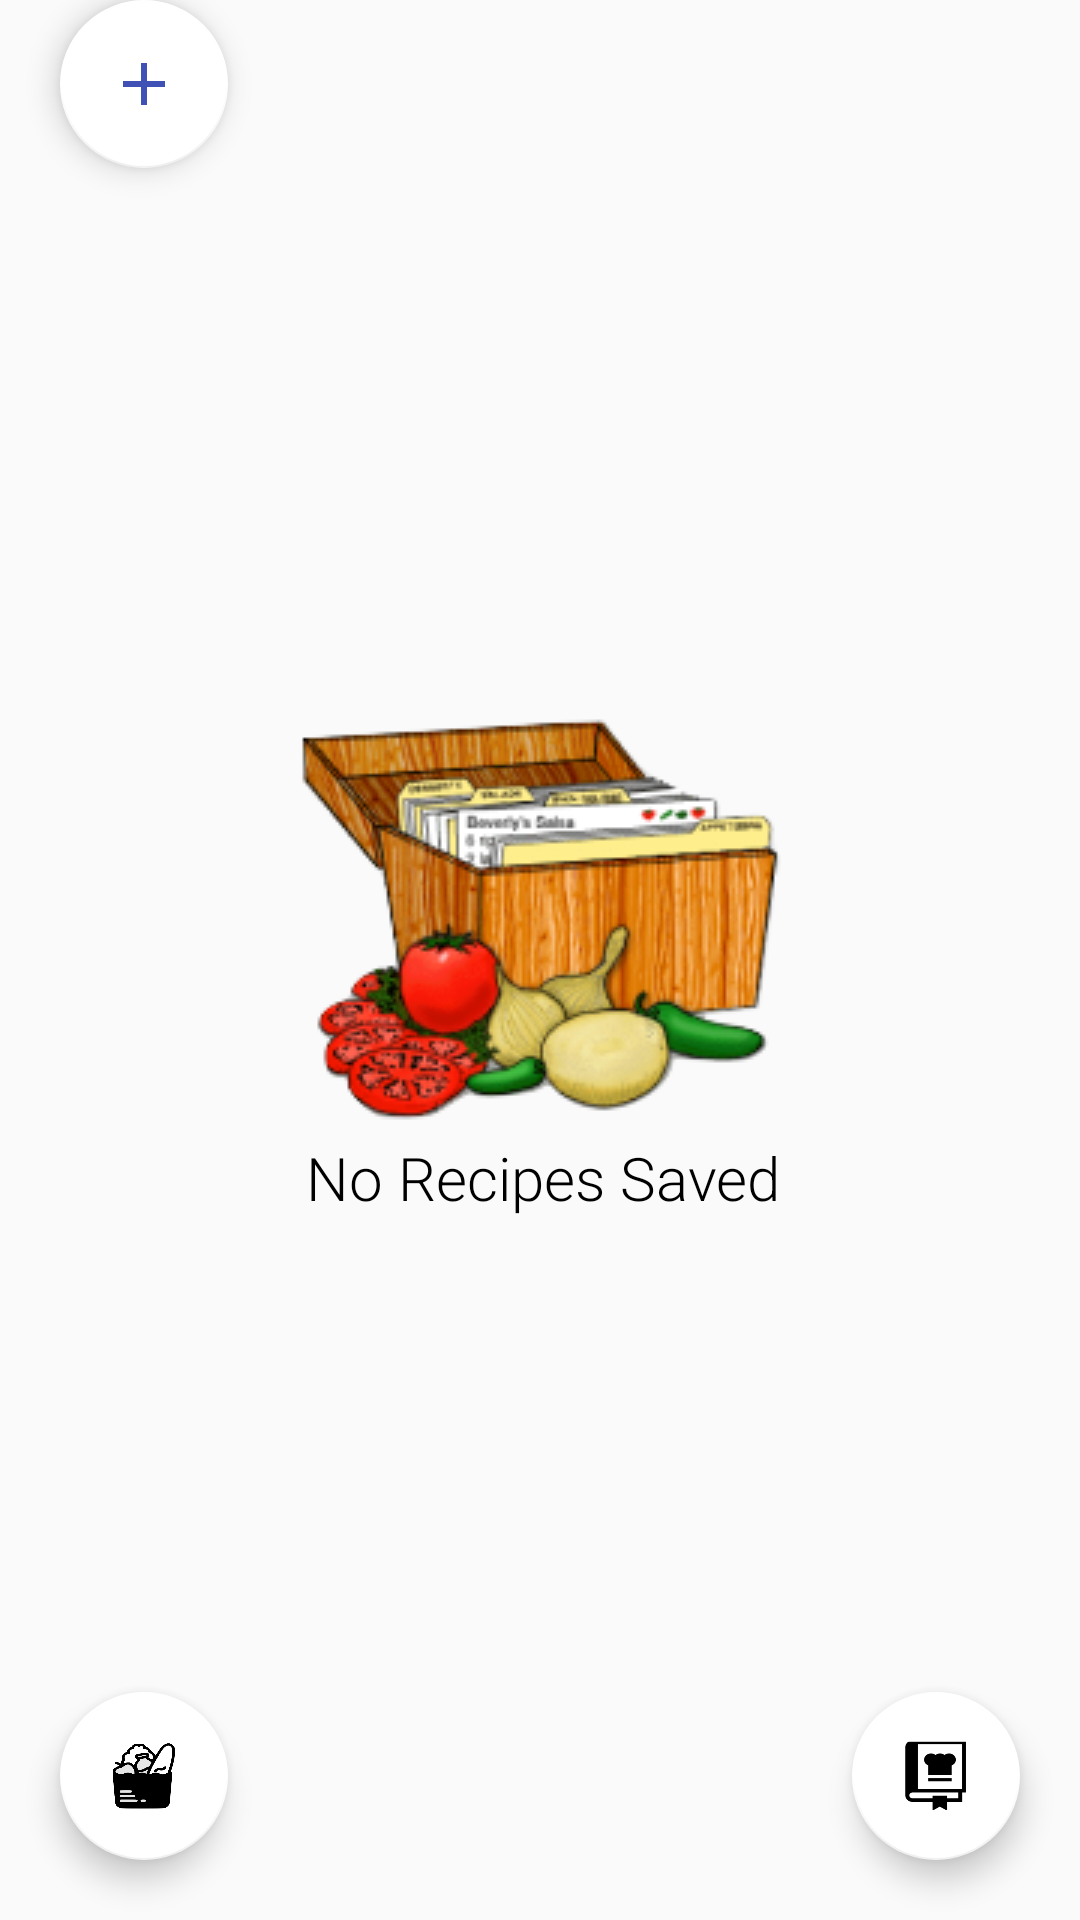

Where icons sit on this 1080×1920 app screen, as (x1, y1, x2, y2):
add: (60, 0, 228, 168)
grocery bag: (113, 1743, 224, 1809)
recipesbook: (856, 1741, 966, 1810)
